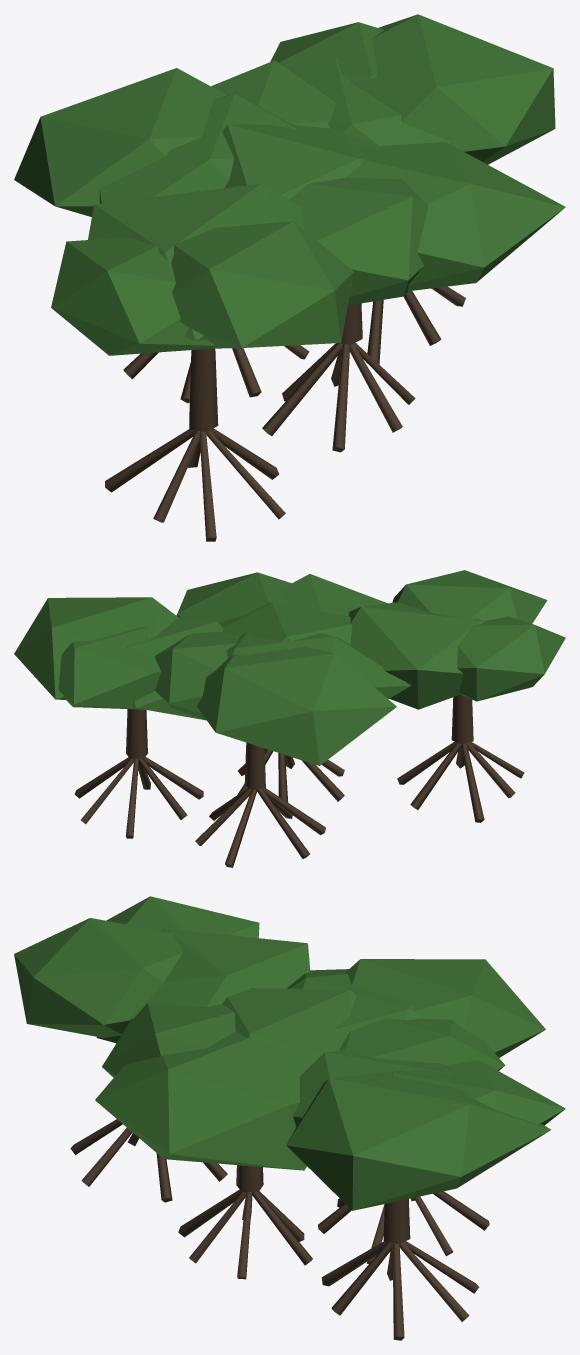
Rendered from sawyer_mangrove_c.glb.
The picture shows the model from 3 angles, top to bottom: view 1: azimuth 30°, elevation 25°; view 2: azimuth 150°, elevation 25°; view 3: azimuth 270°, elevation 25°; orthographic projection. The views are drawn at different scales.
Parts seen in each view (by area): view 1: mangrove_2_crown2, mangrove_0_crown2, mangrove_3_crown2, mangrove_1_crown1, mangrove_2_crown0, mangrove_1_crown2, mangrove_2_crown1, mangrove_1_crown0, mangrove_3_crown1, mangrove_0_crown0, mangrove_3_crown0, mangrove_0_crown1 (+14 smaller); view 2: mangrove_3_crown2, mangrove_2_crown1, mangrove_0_crown2, mangrove_2_crown0, mangrove_0_crown1, mangrove_2_crown2, mangrove_3_crown0, mangrove_1_crown1, mangrove_1_crown0, mangrove_3_crown1, mangrove_1_crown2, mangrove_0_crown0 (+19 smaller); view 3: mangrove_0_crown2, mangrove_1_crown1, mangrove_2_crown2, mangrove_3_crown2, mangrove_2_crown1, mangrove_1_crown0, mangrove_1_crown2, mangrove_3_crown0, mangrove_0_crown1, mangrove_2_crown0, mangrove_0_crown0, mangrove_3_crown1 (+13 smaller).
Boxes of the visible parts, box(x1,y1,x2,y2) form: mangrove_2_crown2: box(171, 221, 353, 348); mangrove_0_crown2: box(350, 14, 555, 164); mangrove_3_crown2: box(14, 68, 226, 216); mangrove_1_crown1: box(345, 142, 565, 291); mangrove_2_crown0: box(51, 237, 215, 355); mangrove_1_crown2: box(289, 177, 428, 305); mangrove_2_crown1: box(88, 183, 304, 340); mangrove_1_crown0: box(222, 124, 376, 199); mangrove_3_crown1: box(99, 93, 298, 203); mangrove_0_crown0: box(304, 57, 450, 145); mangrove_3_crown0: box(211, 60, 336, 128); mangrove_0_crown1: box(270, 22, 384, 79); mangrove_3_crown2: box(197, 646, 396, 765); mangrove_2_crown1: box(348, 602, 485, 709); mangrove_0_crown2: box(14, 597, 180, 699); mangrove_2_crown0: box(457, 616, 565, 701); mangrove_0_crown1: box(58, 626, 160, 709); mangrove_2_crown2: box(392, 570, 547, 623); mangrove_3_crown0: box(155, 632, 239, 720); mangrove_1_crown1: box(176, 572, 291, 622); mangrove_1_crown0: box(219, 602, 352, 644); mangrove_3_crown1: box(226, 631, 410, 698); mangrove_1_crown2: box(276, 574, 387, 616); mangrove_0_crown0: box(127, 618, 223, 720); mangrove_0_crown2: box(286, 1070, 550, 1210); mangrove_1_crown1: box(95, 1031, 306, 1170); mangrove_2_crown2: box(14, 918, 182, 1037); mangrove_3_crown2: box(344, 959, 545, 1057); mangrove_2_crown1: box(96, 928, 310, 1043); mangrove_1_crown0: box(222, 988, 356, 1077); mangrove_1_crown2: box(102, 1003, 235, 1077); mangrove_3_crown0: box(339, 1018, 505, 1070); mangrove_0_crown1: box(391, 1060, 565, 1148); mangrove_2_crown0: box(106, 896, 259, 937); mangrove_0_crown0: box(293, 1050, 450, 1126); mangrove_3_crown1: box(286, 969, 420, 1032).
Size of the model in its own units: 5.15 by 2.22 by 4.6.
